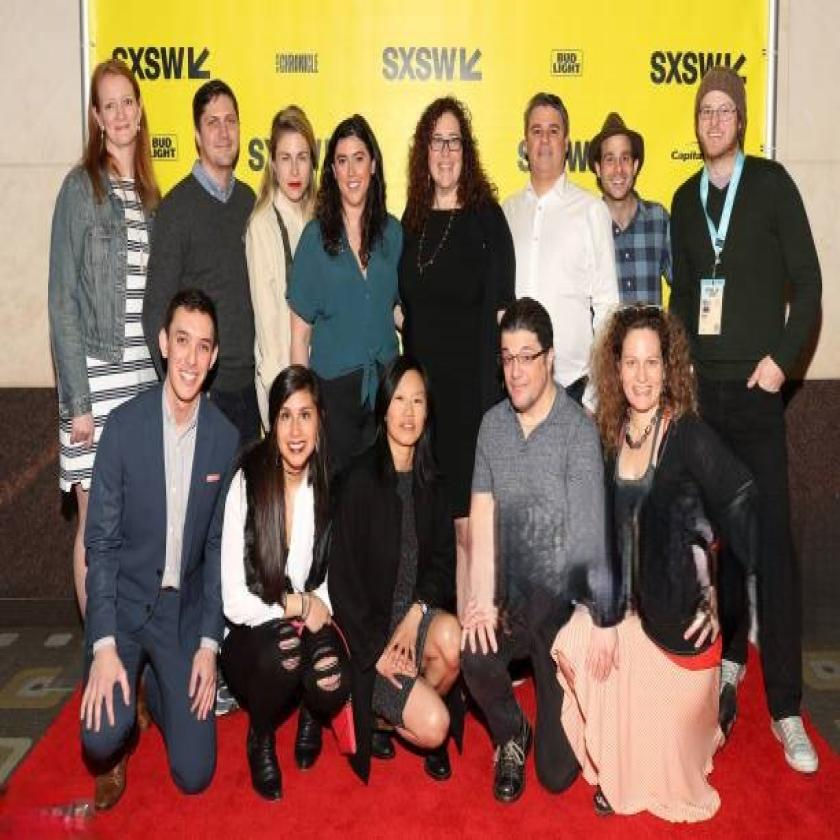Sin_casco: (600, 292, 694, 442), (147, 279, 225, 406), (494, 287, 566, 413), (506, 61, 576, 188), (376, 329, 436, 474), (80, 49, 151, 168), (265, 349, 326, 478), (186, 63, 250, 181), (410, 97, 480, 199), (328, 113, 391, 220), (264, 95, 317, 211)
